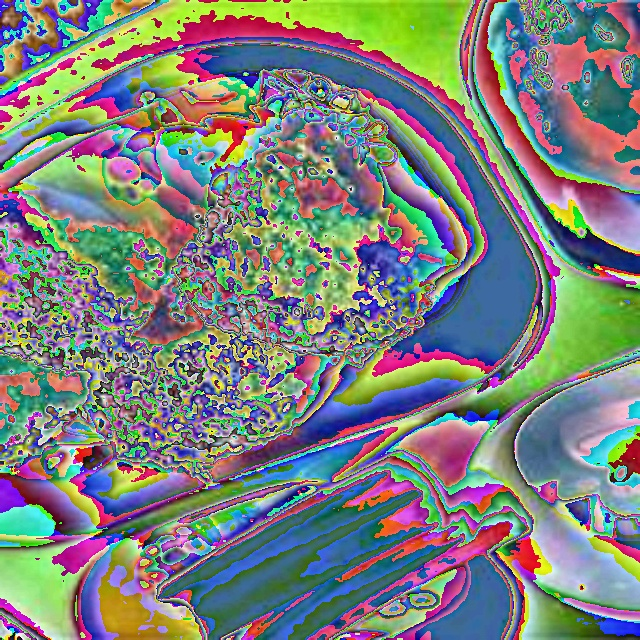background: (155, 190, 537, 639), (0, 135, 435, 487), (150, 0, 639, 198)
